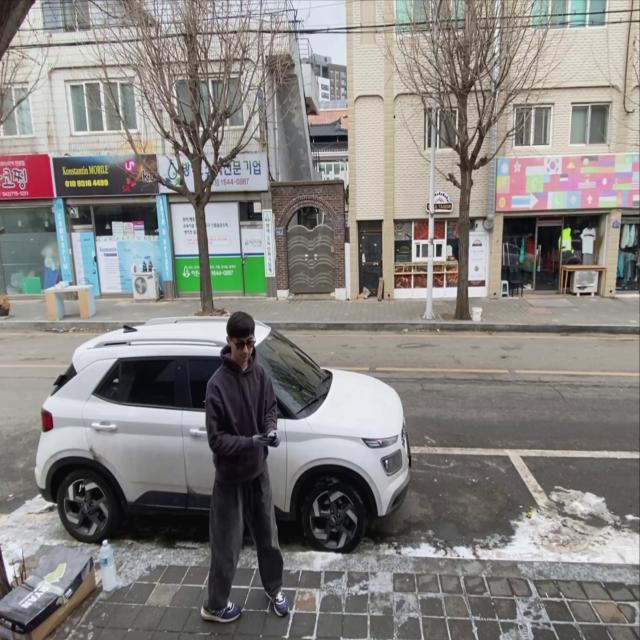gloved_hand: (250, 429, 269, 454), (266, 430, 284, 450)
